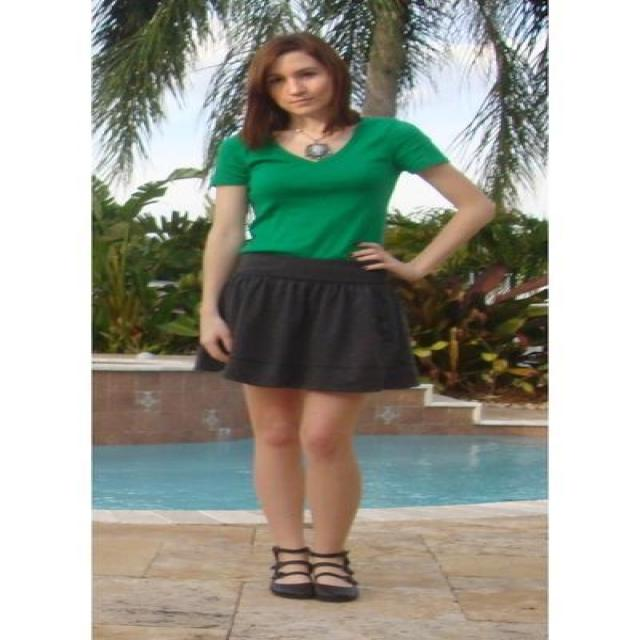shirt: (213, 119, 440, 258)
shoe: (270, 546, 358, 602)
skirt: (189, 243, 435, 394)
